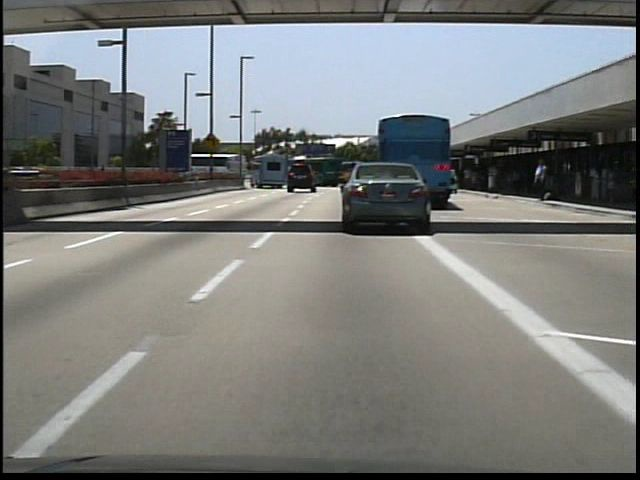person: (532, 156, 551, 203)
